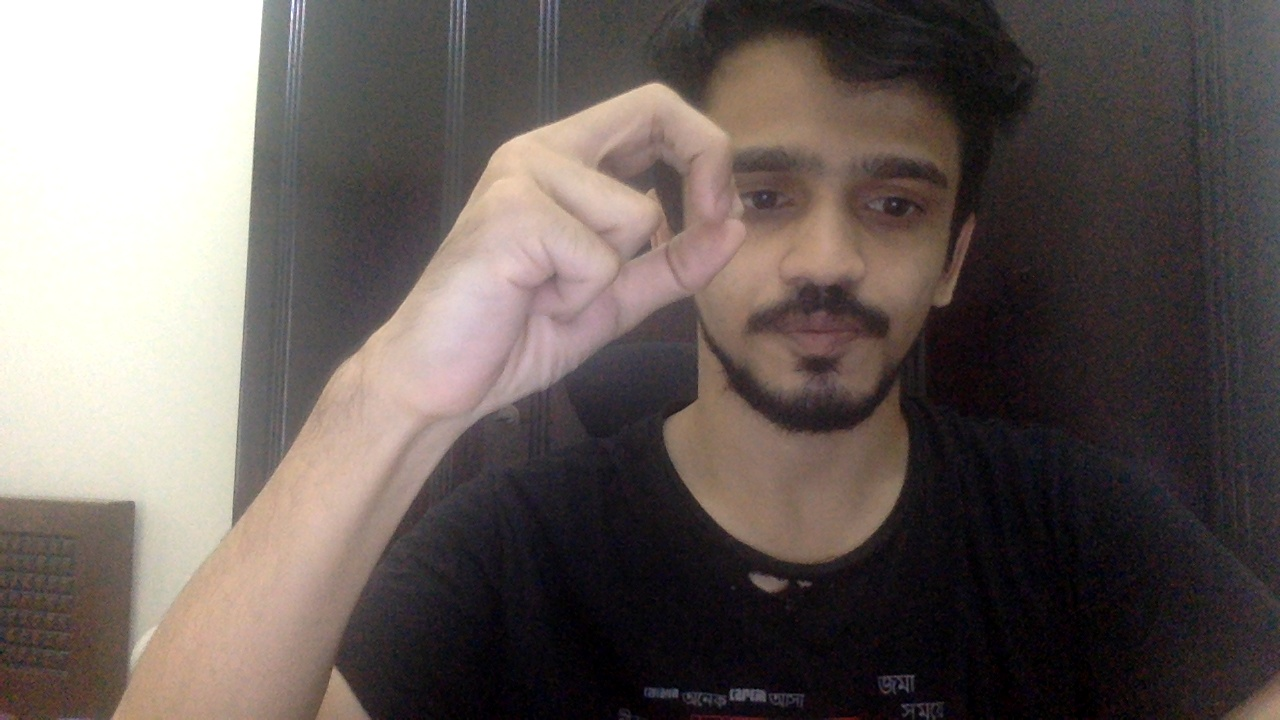zero: (373, 79, 747, 421)
